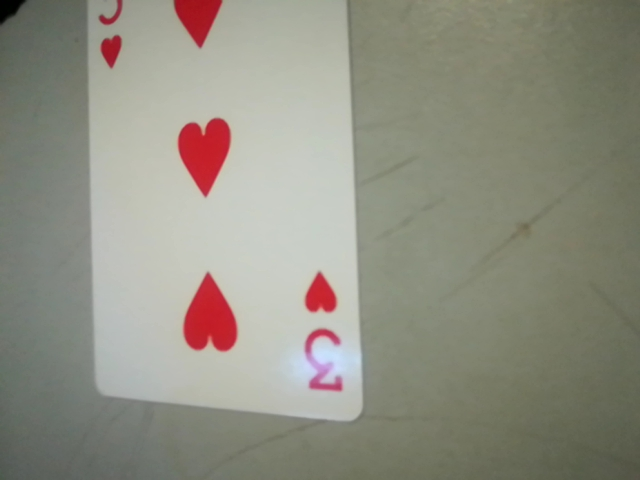hx 3: (290, 263, 357, 404)
